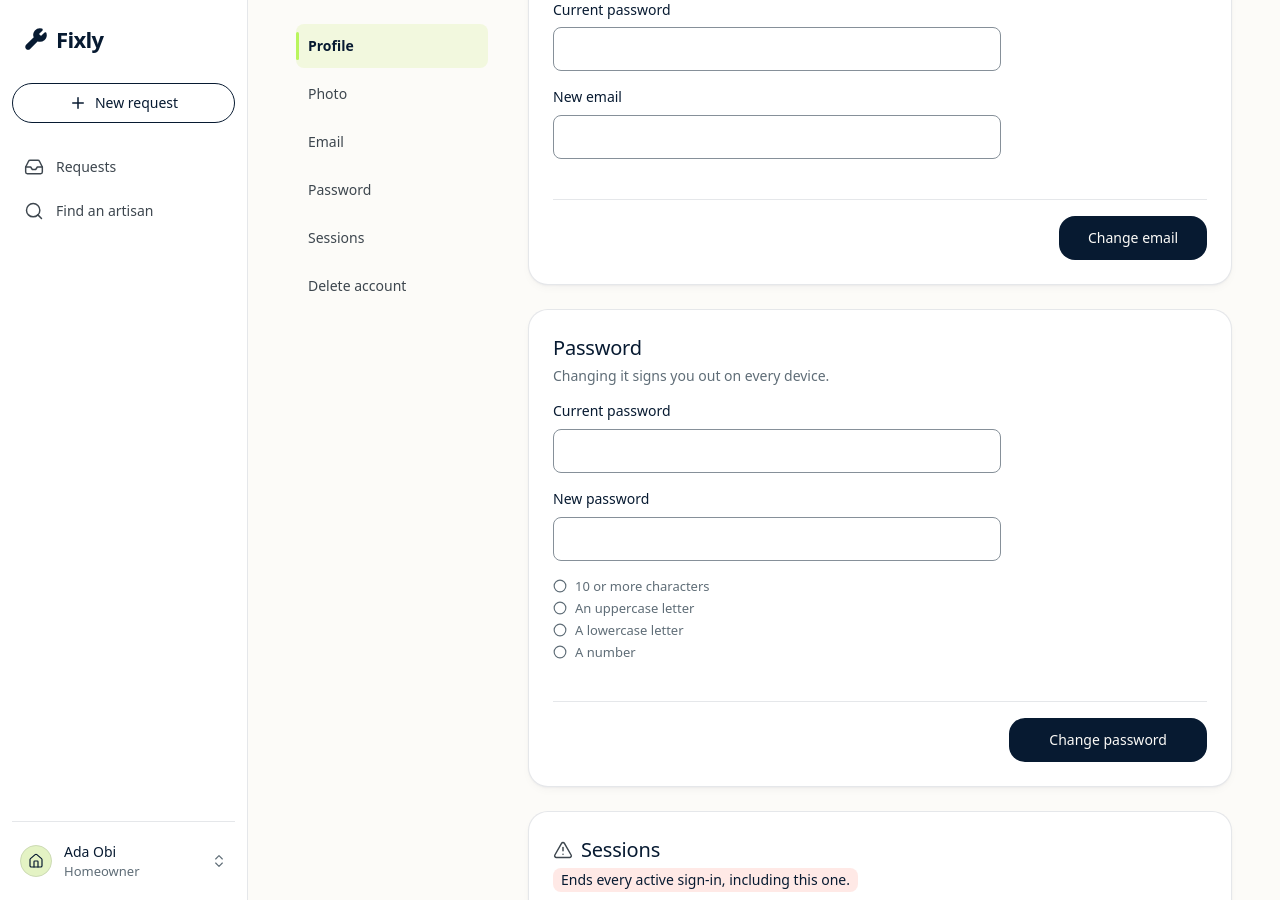
Test: a password change lands on login with its notice, not on the home page
(page scrolled)
Type "OldPassw0rd!" into the 2nd password field labelled "Current password". click: (777, 451)
box: [553, 429, 1001, 473]
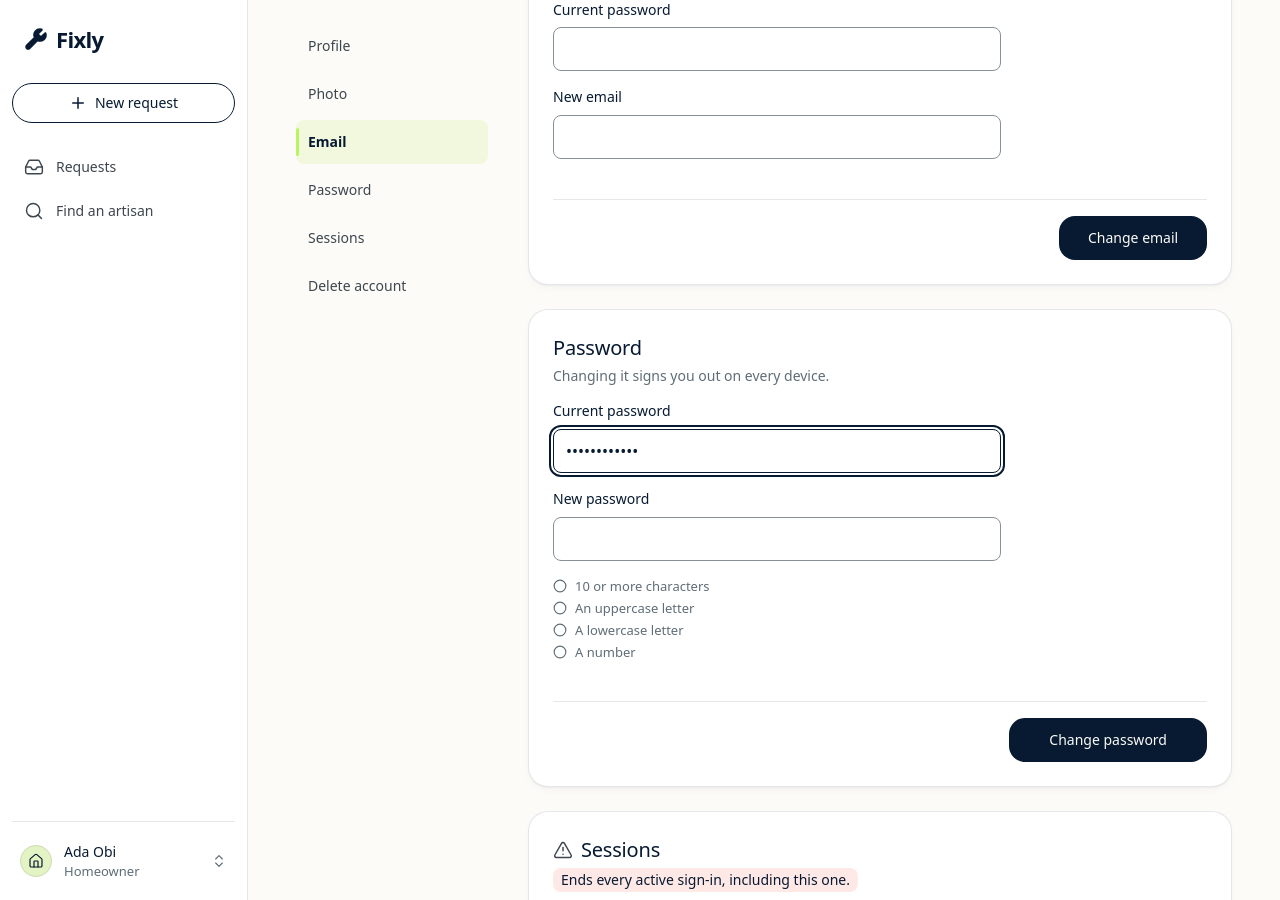
Type "NewPassw0rd!" into the password field labelled "New password". click: (777, 538)
box: [553, 516, 1001, 560]
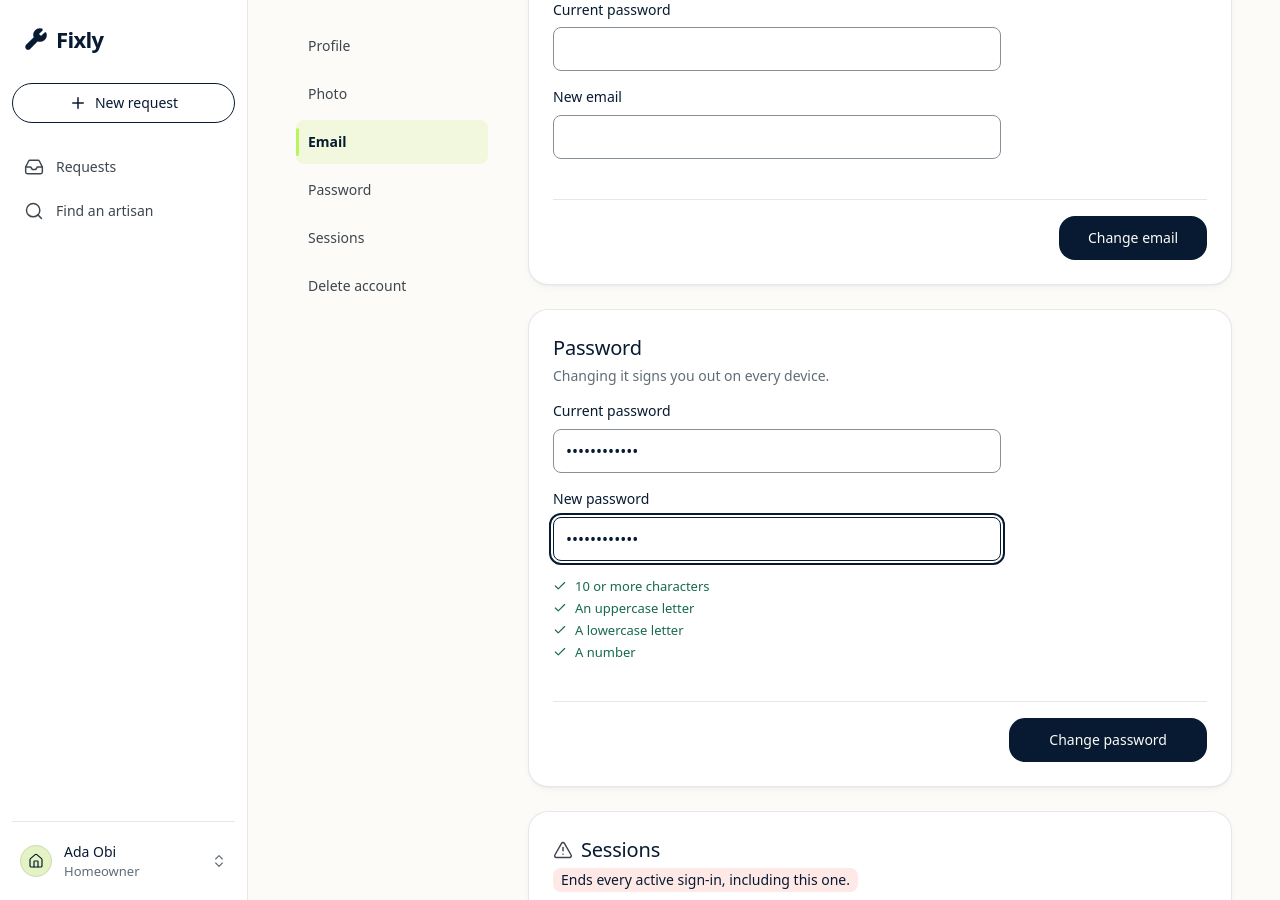
Click the button "Change password". click: (1108, 740)
box: [1009, 718, 1207, 762]
(page scrolled)
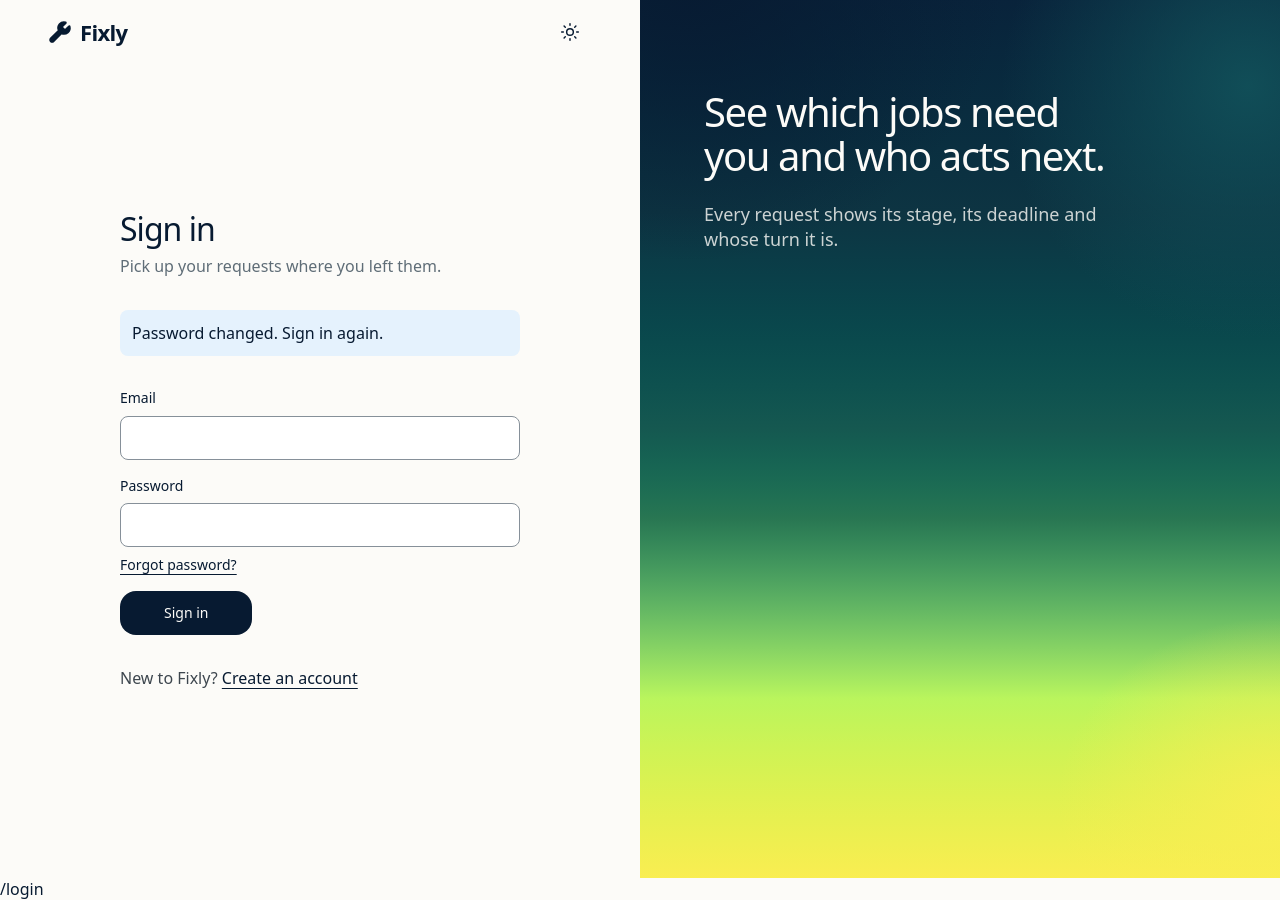
Expected: the text "Password changed. Sign in again." is shown, [120, 310, 520, 356]
Expected: the text with test id "where" reads "/login", [0, 878, 44, 899]
